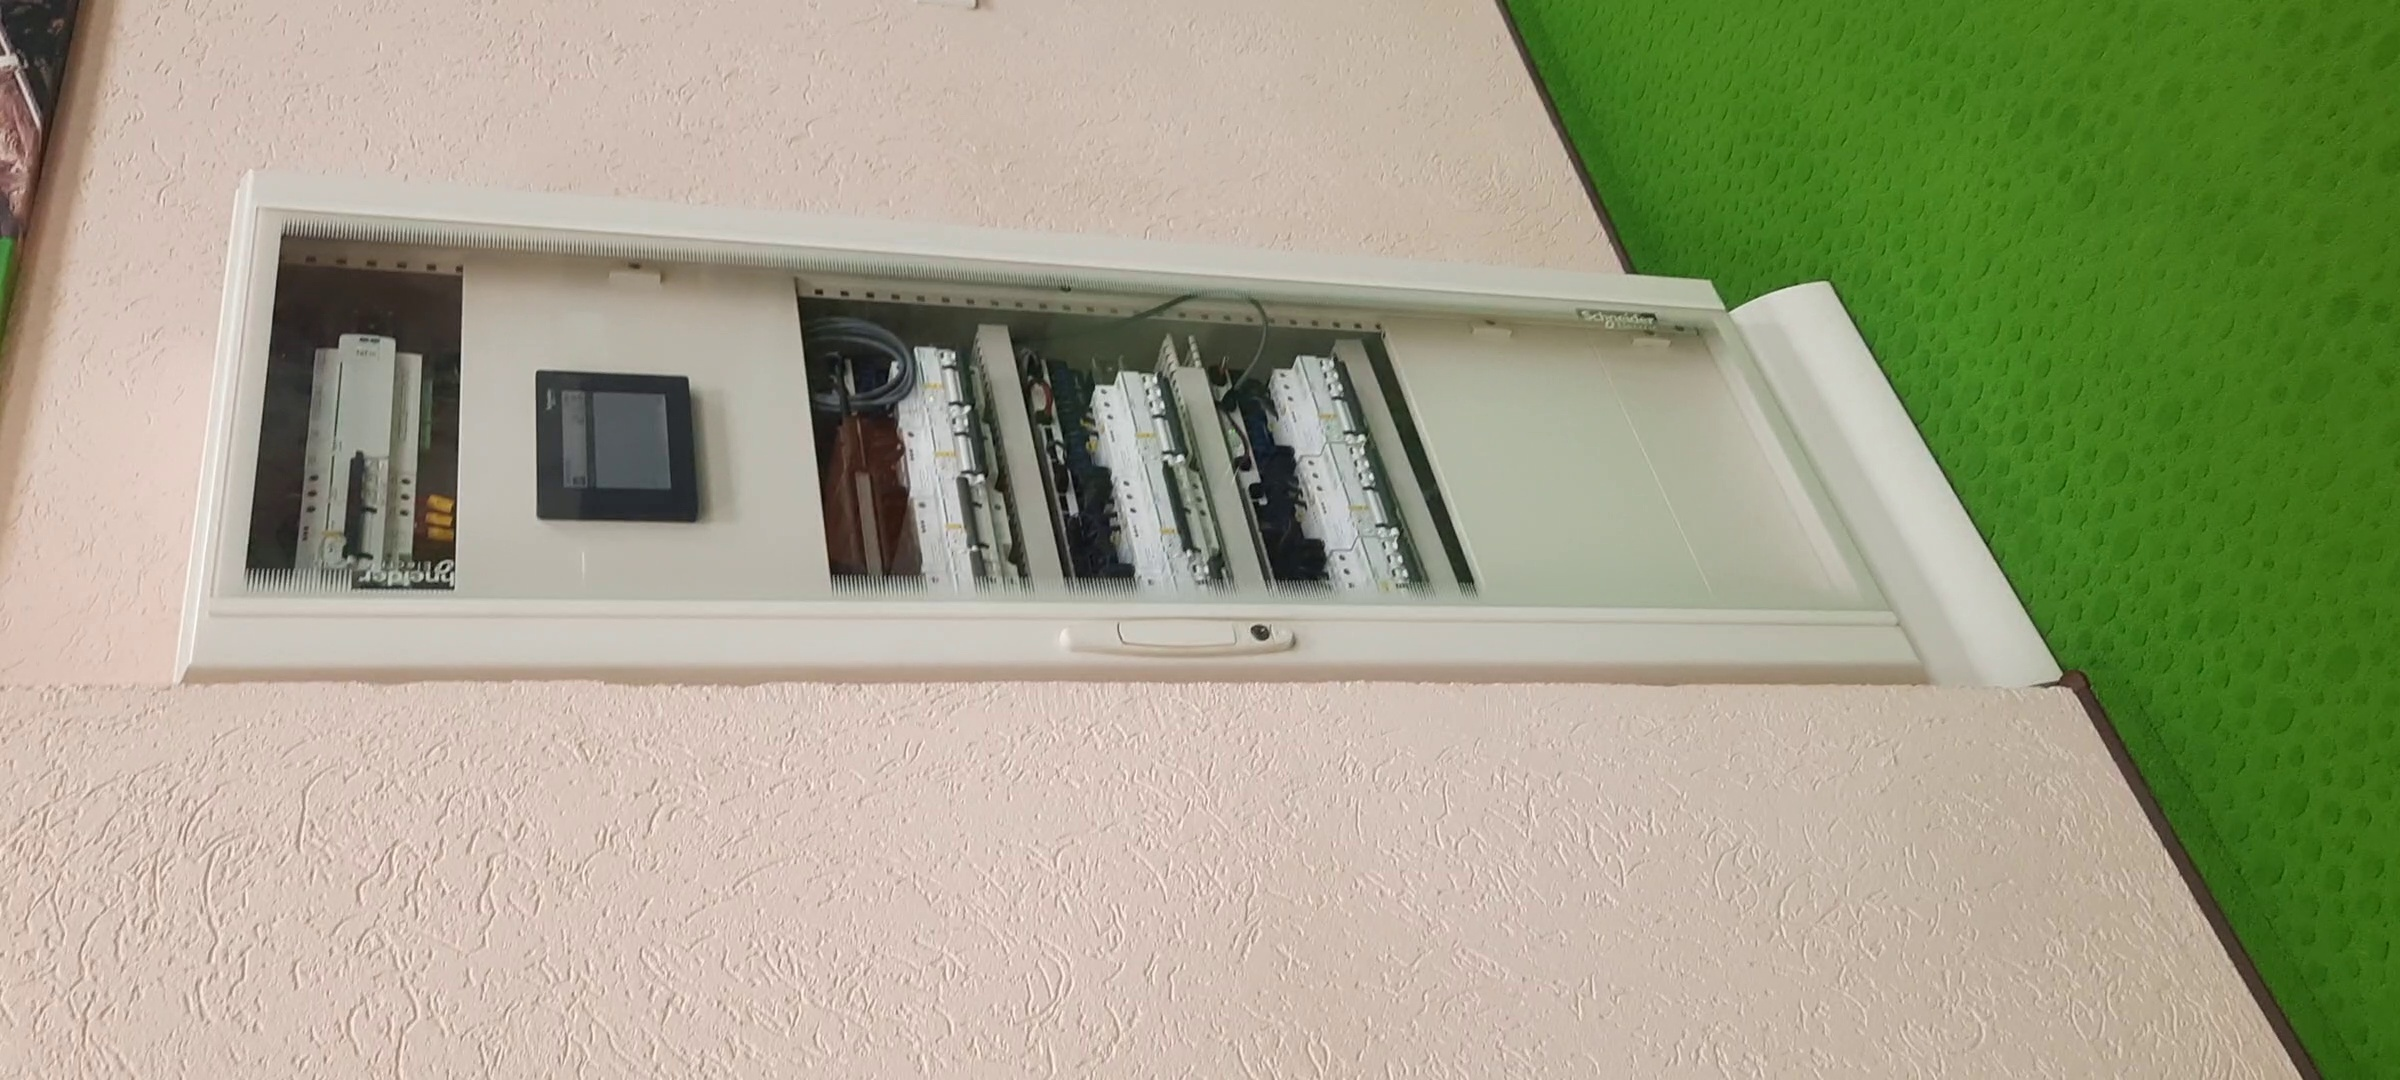smart_stand: (181, 176, 2059, 699)
